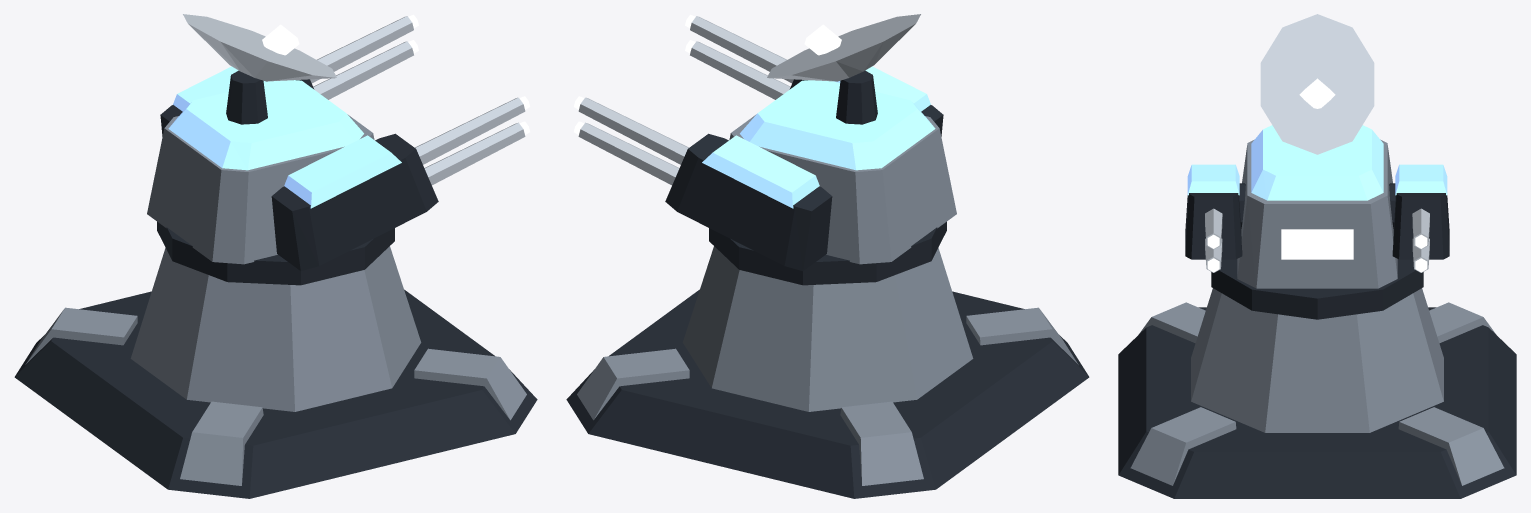
The model's file is sentry_turret.glb.
3 views of the same model, side by side, from view 1: azimuth 30°, elevation 25°; view 2: azimuth 150°, elevation 25°; view 3: azimuth 270°, elevation 25° (orthographic). The views are drawn at different scales.
Visible parts, largest first — view 1: Surf_armor, Surf_dark, Surf_TEAM, Surf_light, Surf_cyan; view 2: Surf_armor, Surf_dark, Surf_TEAM, Surf_light, Surf_cyan; view 3: Surf_armor, Surf_dark, Surf_light, Surf_TEAM, Surf_cyan.
Boxes of the visible parts, bbox=[...] form: Surf_armor: bbox=[25, 114, 526, 485]; Surf_dark: bbox=[14, 70, 537, 498]; Surf_TEAM: bbox=[168, 66, 401, 208]; Surf_light: bbox=[183, 14, 525, 185]; Surf_cyan: bbox=[262, 14, 529, 134]; Surf_armor: bbox=[577, 114, 1078, 485]; Surf_dark: bbox=[566, 70, 1089, 498]; Surf_TEAM: bbox=[702, 66, 935, 208]; Surf_light: bbox=[578, 14, 920, 185]; Surf_cyan: bbox=[574, 14, 841, 134]; Surf_armor: bbox=[1130, 139, 1504, 485]; Surf_dark: bbox=[1118, 183, 1516, 498]; Surf_light: bbox=[1205, 14, 1429, 272]; Surf_TEAM: bbox=[1187, 125, 1447, 200]; Surf_cyan: bbox=[1207, 78, 1427, 272].
Size of the model in its own units: 3.17 by 3.07 by 3.07.
